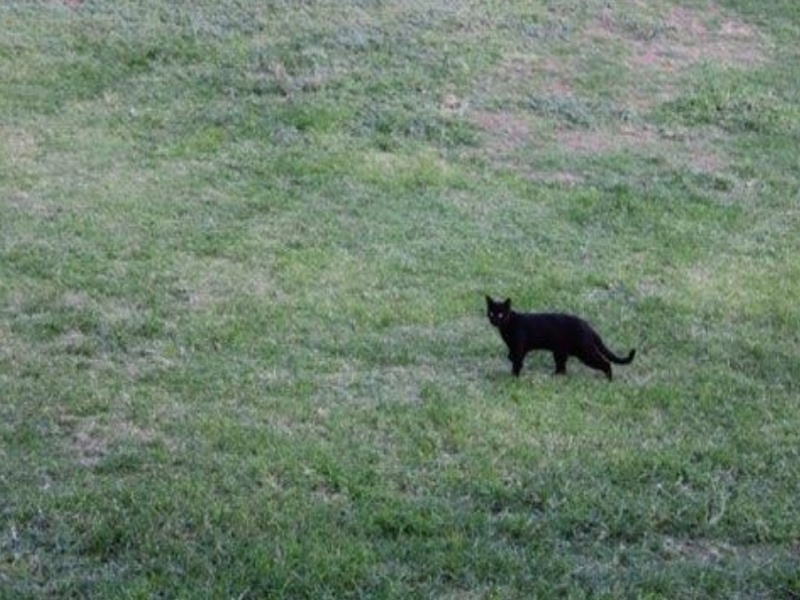cat: (482, 292, 636, 381)
